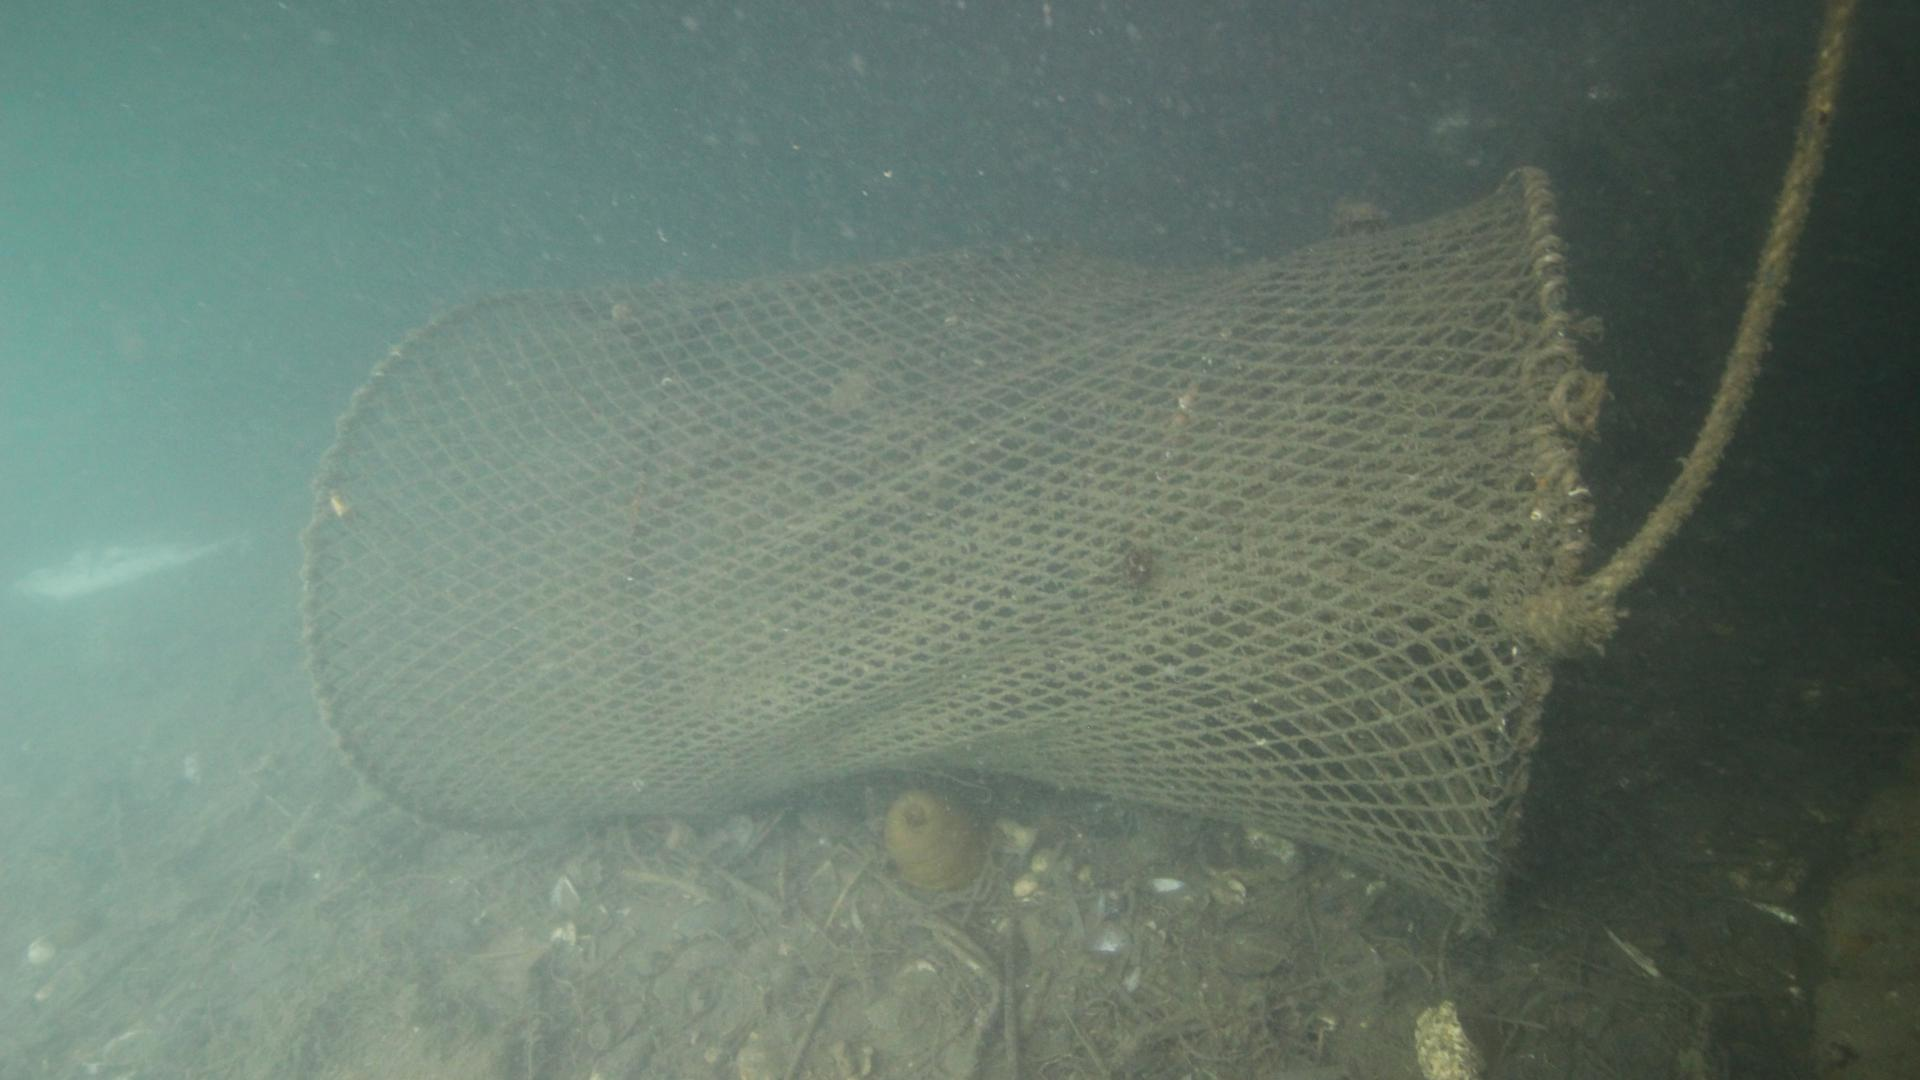rope: (1568, 7, 1847, 647)
spring fish trap: (299, 160, 1582, 935)
